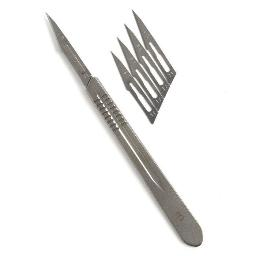scalpel: (42, 12, 204, 248)
